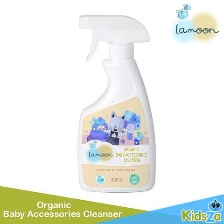cleaning_solution: (70, 9, 158, 195)
